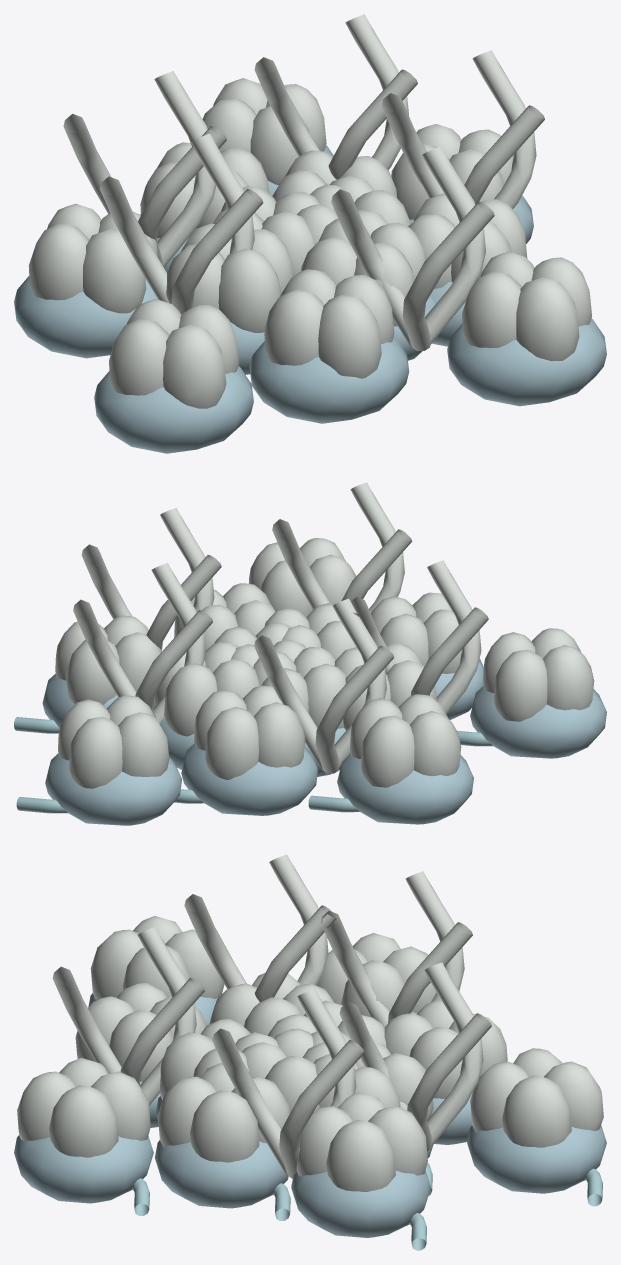
The model's file is bio_oxygen_reef_19_far.glb.
3 views of the same model, one above another, from view 1: azimuth 30°, elevation 25°; view 2: azimuth 150°, elevation 25°; view 3: azimuth 270°, elevation 25° (orthographic). The views are drawn at different scales.
Visible parts, largest first — view 1: Lobed gas sac.028, Lobed gas sac.048, Lobed gas sac.040, Spiral filament.006, Lobed gas sac.036, Spiral filament.012, Photosynthetic cushion.007, Photosynthetic cushion.012, Photosynthetic cushion.010, Spiral filament.003, Spiral filament, Lobed gas sac.016 (+12 smaller); view 2: Lobed gas sac.048, Lobed gas sac.036, Lobed gas sac.044, Lobed gas sac.024, Spiral filament.003, Spiral filament.009, Photosynthetic cushion.011, Photosynthetic cushion.012, Photosynthetic cushion.006, Photosynthetic cushion.009, Lobed gas sac.032, Spiral filament.006 (+16 smaller); view 3: Lobed gas sac.040, Lobed gas sac.044, Lobed gas sac.032, Lobed gas sac.020, Spiral filament.009, Spiral filament, Spiral filament.006, Spiral filament.012, Photosynthetic cushion.010, Photosynthetic cushion.011, Photosynthetic cushion.008, Spiral filament.003 (+15 smaller).
Part boxes in pixels (bbox=[...]): Lobed gas sac.028: bbox=[264, 269, 394, 378]; Lobed gas sac.048: bbox=[109, 299, 238, 408]; Lobed gas sac.040: bbox=[462, 251, 591, 361]; Spiral filament.006: bbox=[331, 146, 494, 350]; Lobed gas sac.036: bbox=[28, 203, 157, 313]; Spiral filament.012: bbox=[100, 133, 263, 314]; Photosynthetic cushion.007: bbox=[249, 336, 409, 423]; Photosynthetic cushion.012: bbox=[94, 366, 253, 453]; Photosynthetic cushion.010: bbox=[447, 318, 606, 406]; Spiral filament.003: bbox=[63, 71, 226, 267]; Spiral filament: bbox=[381, 50, 544, 208]; Lobed gas sac.016: bbox=[166, 223, 293, 332]; Lobed gas sac.048: bbox=[482, 628, 594, 721]; Lobed gas sac.036: bbox=[349, 694, 461, 787]; Lobed gas sac.044: bbox=[58, 695, 169, 788]; Lobed gas sac.024: bbox=[194, 685, 305, 779]; Spiral filament.003: bbox=[254, 598, 394, 773]; Spiral filament.009: bbox=[73, 563, 212, 723]; Photosynthetic cushion.011: bbox=[45, 753, 181, 825]; Photosynthetic cushion.012: bbox=[470, 686, 606, 758]; Photosynthetic cushion.006: bbox=[181, 743, 317, 815]; Photosynthetic cushion.009: bbox=[337, 754, 473, 824]; Lobed gas sac.032: bbox=[55, 615, 161, 704]; Spiral filament.006: bbox=[272, 482, 412, 613]; Lobed gas sac.040: bbox=[17, 1058, 150, 1157]; Lobed gas sac.044: bbox=[470, 1048, 603, 1147]; Lobed gas sac.032: bbox=[296, 1092, 427, 1191]; Lobed gas sac.020: bbox=[158, 1063, 289, 1162]; Spiral filament.009: bbox=[339, 962, 491, 1151]; Spiral filament: bbox=[212, 989, 364, 1178]; Spiral filament.006: bbox=[52, 927, 204, 1105]; Spiral filament.012: bbox=[184, 854, 336, 1002]; Photosynthetic cushion.010: bbox=[14, 1135, 153, 1203]; Photosynthetic cushion.011: bbox=[467, 1125, 606, 1193]; Photosynthetic cushion.008: bbox=[291, 1170, 430, 1237]; Spiral filament.003: bbox=[320, 871, 472, 1027].
Bounding box in the file's own units: 1.99 × 0.7508 × 2.03.
